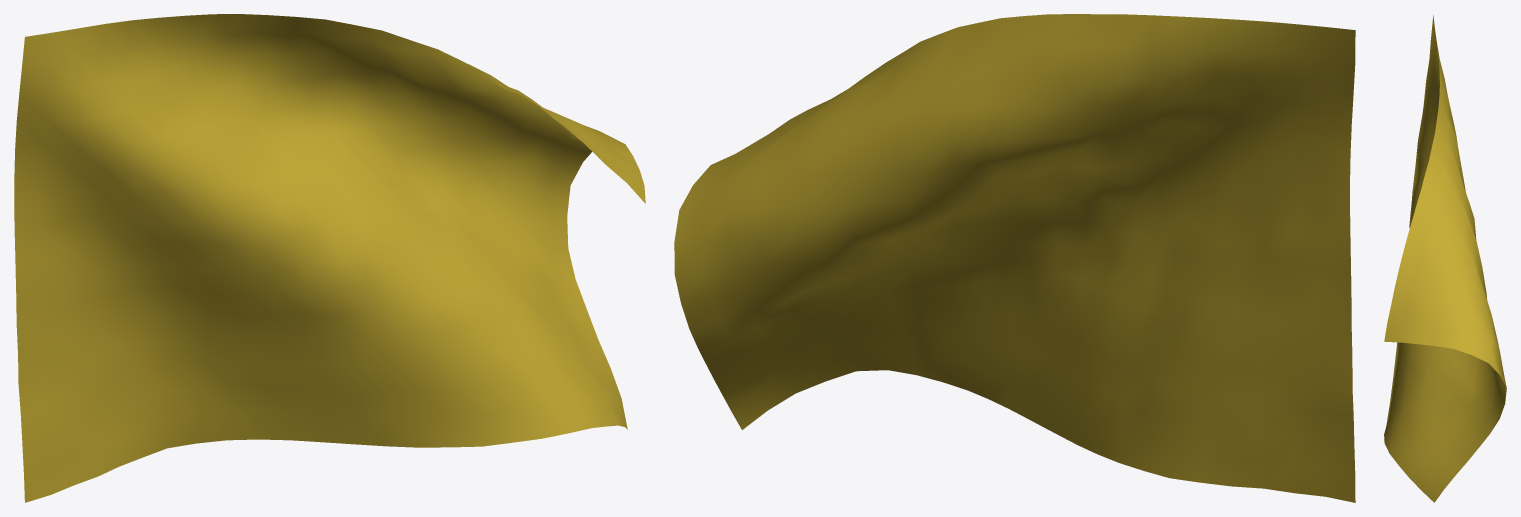
The model's file is yellow_flag.glb.
3 renders of one model, left to right at view 1: azimuth 30°, elevation 25°; view 2: azimuth 150°, elevation 25°; view 3: azimuth 270°, elevation 25°, orthographic. The views are drawn at different scales.
Parts seen in each view (by area): view 1: Flag ShapeKeys_2_4_7; view 2: Flag ShapeKeys_2_4_7; view 3: Flag ShapeKeys_2_4_7.
Boxes of the visible parts, x1,y1,x2,y2 form: Flag ShapeKeys_2_4_7: [14, 14, 645, 502]; Flag ShapeKeys_2_4_7: [674, 14, 1355, 502]; Flag ShapeKeys_2_4_7: [1384, 15, 1506, 502].
Bounding box in the file's own units: 2.8 × 2.32 × 0.8164.
Materials: 1 (1 with a texture image).
